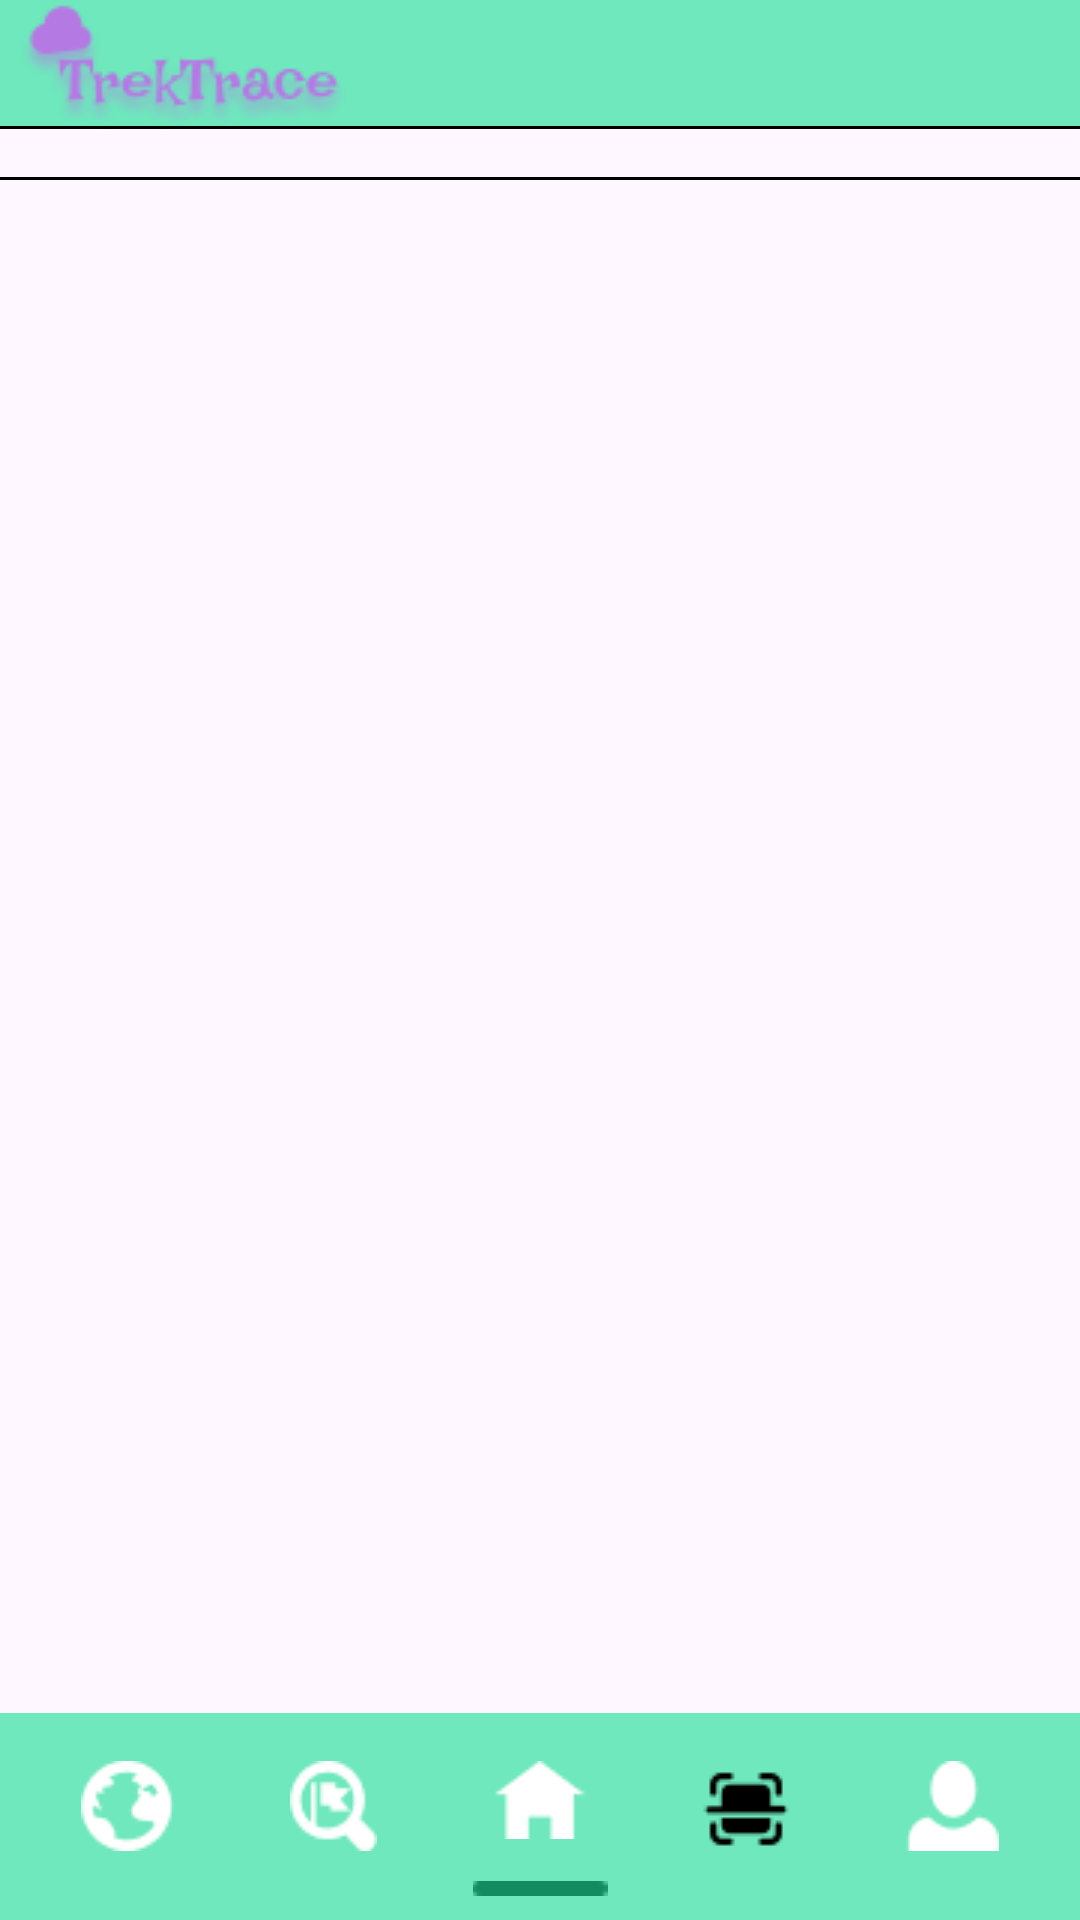

Where to tap for icons on this 1080x1920 app screen, as (x,y):
explore world by map: (126,1806)
home: (539,1800)
profile: (953,1806)
scan: (746,1809)
search by location: (333,1806)
